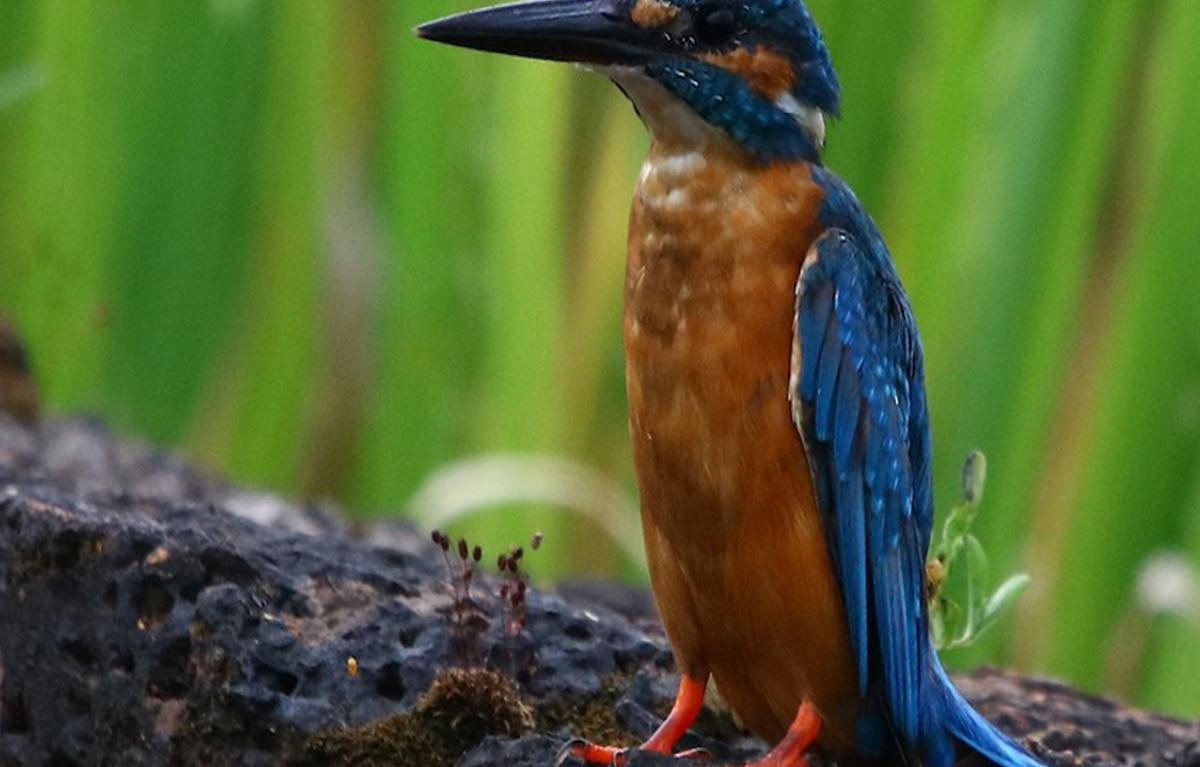kingfisher: (414, 6, 1053, 767)
